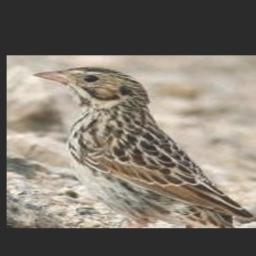Sparrow: (31, 65, 256, 226)
